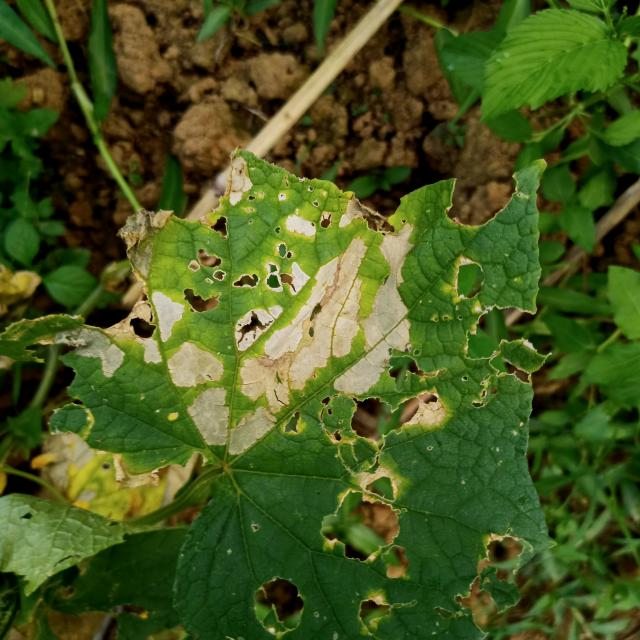disease_cucumber: (118, 166, 513, 580)
